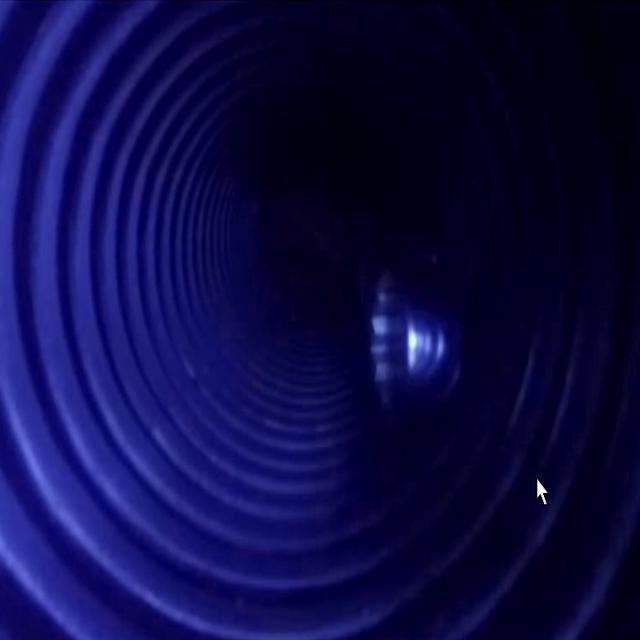metal piece: (369, 259, 465, 411)
